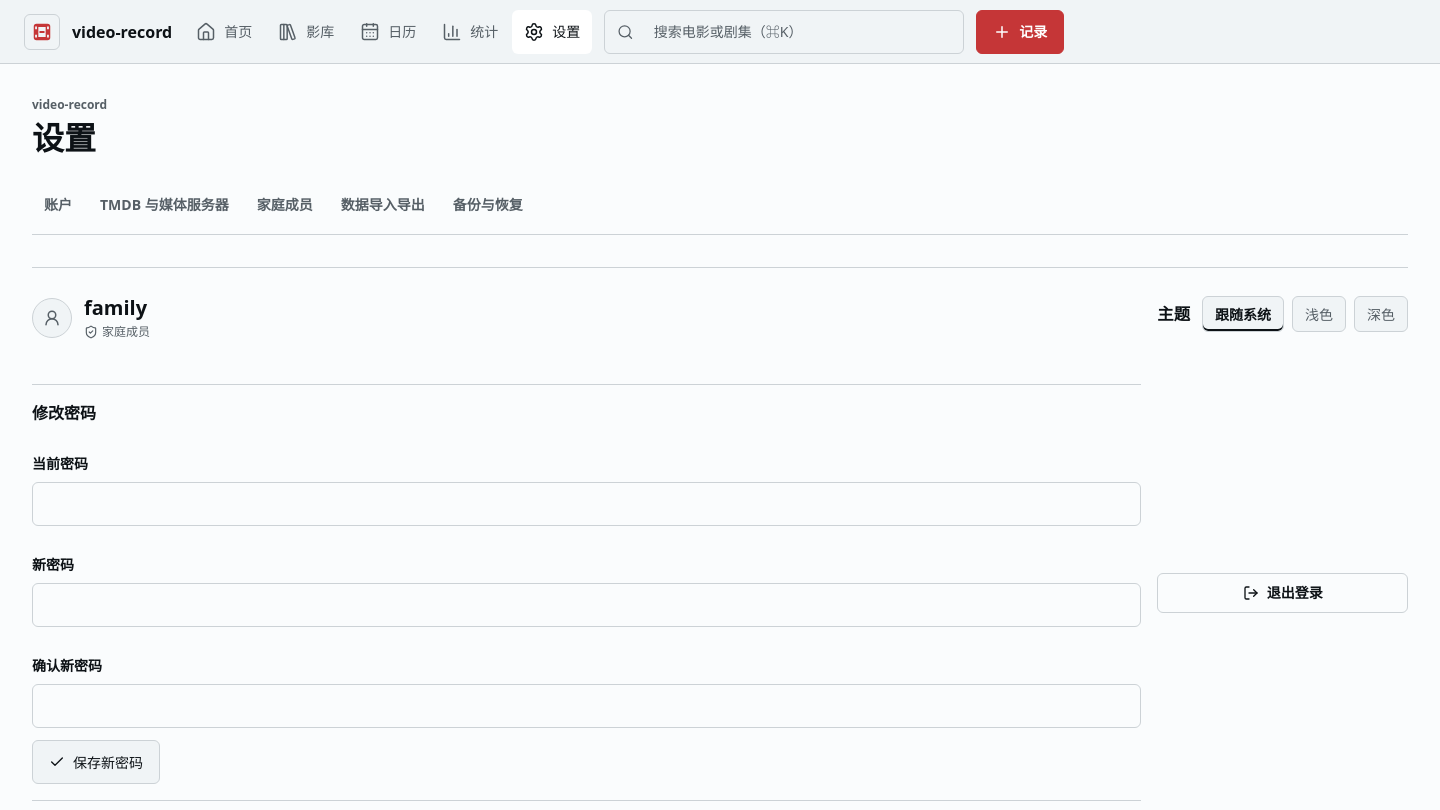
Test case: App › shows the current account and logs out from settings
Expected: the heading "family" is shown, [84, 292, 150, 322]
Click the button "退出登录": x=1283, y=592 [1157, 572, 1408, 612]
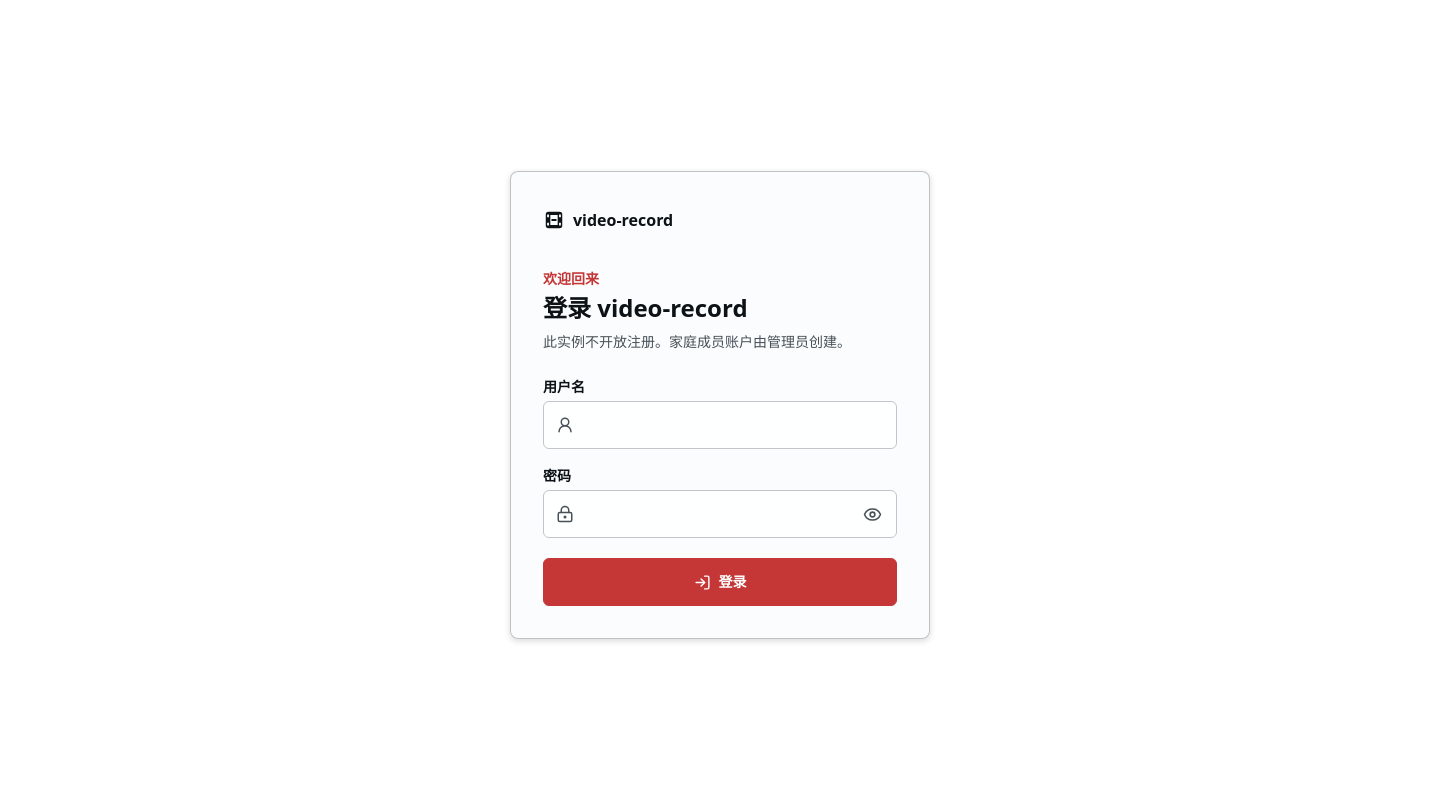
Expected: the heading "登录 video-record" is shown, [543, 291, 748, 324]
